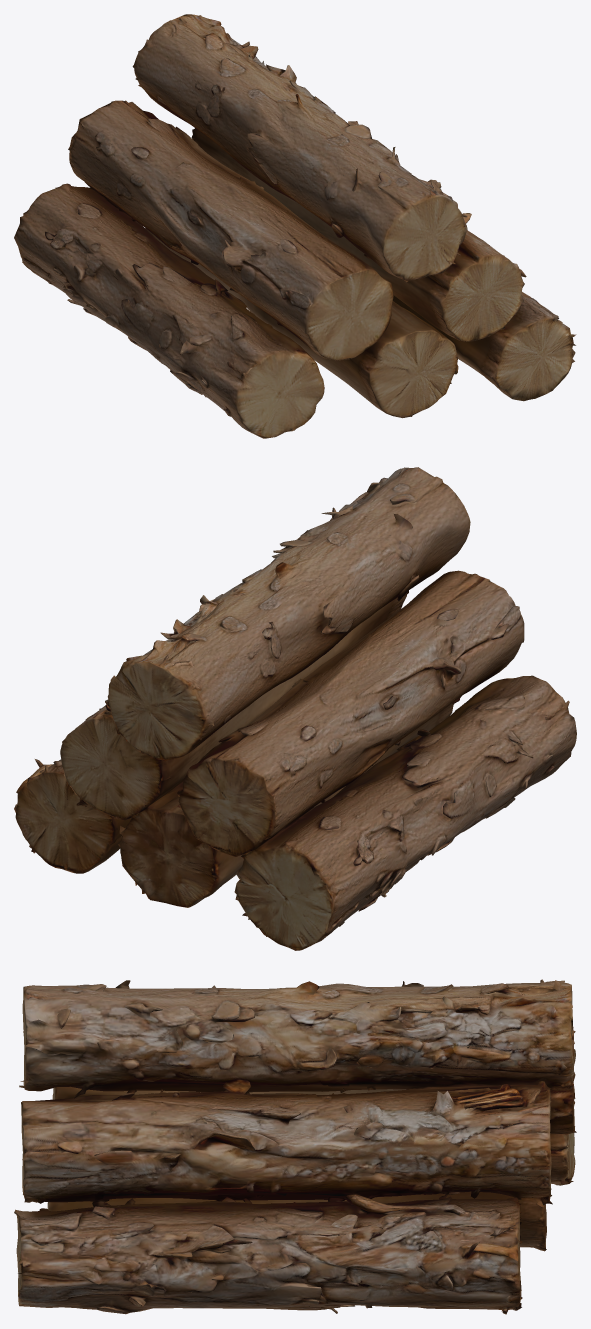
File: logs.glb
3 renders of one model, top to bottom at view 1: azimuth 30°, elevation 25°; view 2: azimuth 150°, elevation 25°; view 3: azimuth 270°, elevation 25°, orthographic. The views are drawn at different scales.
Parts seen in each view (by area): view 1: tripo_node_2db07656-9e7e-49aa-9bf3-0ced51a5c904; view 2: tripo_node_2db07656-9e7e-49aa-9bf3-0ced51a5c904; view 3: tripo_node_2db07656-9e7e-49aa-9bf3-0ced51a5c904.
Part boxes in pixels (bbox=[...]): tripo_node_2db07656-9e7e-49aa-9bf3-0ced51a5c904: bbox=[14, 14, 576, 438]; tripo_node_2db07656-9e7e-49aa-9bf3-0ced51a5c904: bbox=[14, 467, 576, 950]; tripo_node_2db07656-9e7e-49aa-9bf3-0ced51a5c904: bbox=[14, 979, 576, 1314].
Bounding box in the file's own units: 0.7227 × 0.5 × 0.9494.
1 material, 1 textured.
